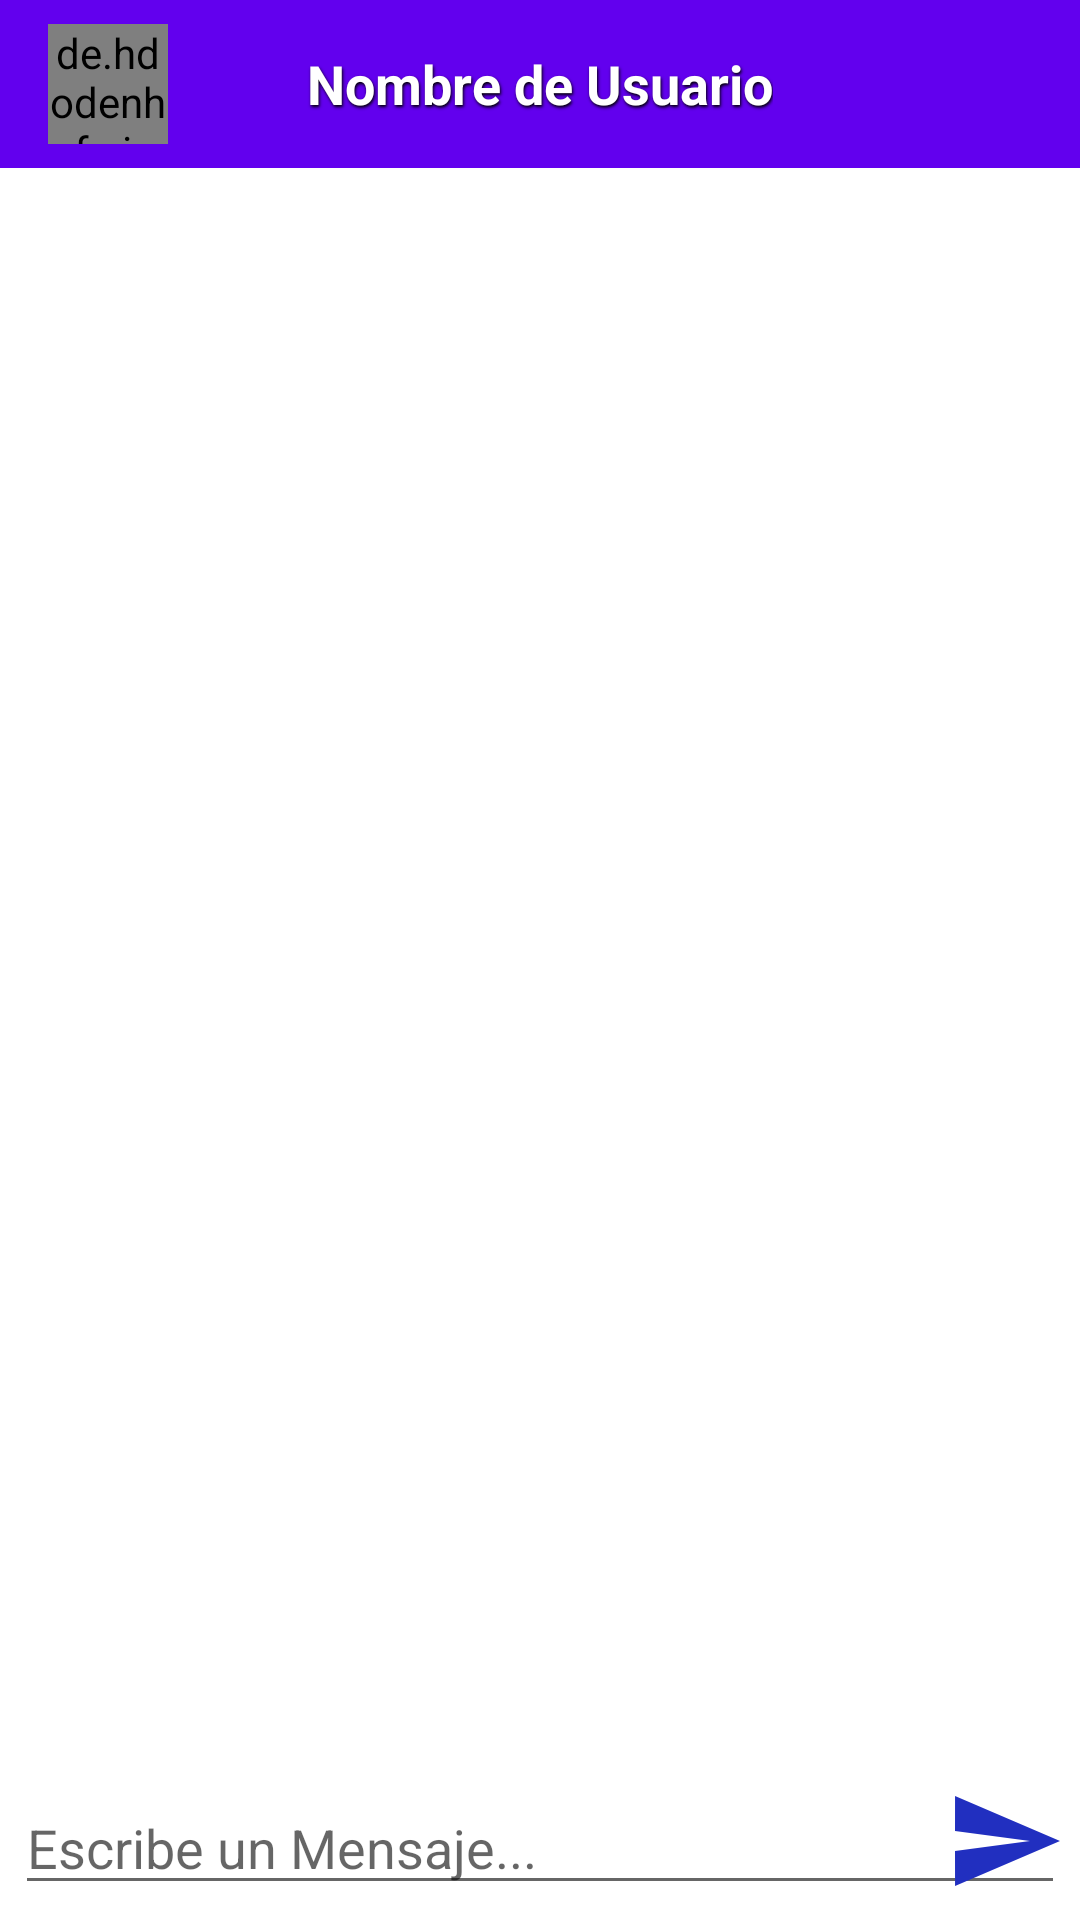

Where icons sit on this 1080×1920 app screen, as (x1, y1, x2, y2):
enviar: (945, 1796, 1060, 1886)
